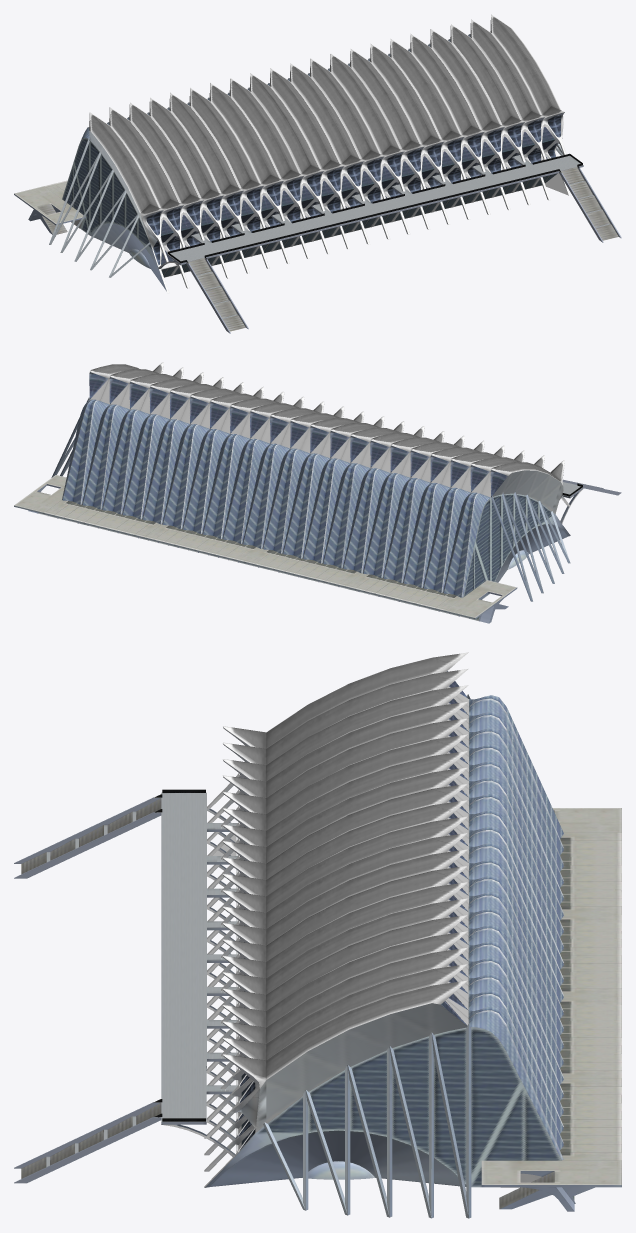
File: PIIE_AR_MO027_CIENCIES.fbx
The picture shows the model from 3 angles, top to bottom: view 1: azimuth 30°, elevation 25°; view 2: azimuth 150°, elevation 25°; view 3: azimuth 270°, elevation 25°; orthographic projection. The views are drawn at different scales.
Visible parts, largest first — view 1: PIIE_AR_MO026_CIENCIES; view 2: PIIE_AR_MO026_CIENCIES; view 3: PIIE_AR_MO026_CIENCIES.
Boxes of the visible parts, x1,y1,x2,y2 form: PIIE_AR_MO026_CIENCIES: [14, 14, 621, 333]; PIIE_AR_MO026_CIENCIES: [14, 362, 621, 623]; PIIE_AR_MO026_CIENCIES: [14, 652, 621, 1218].
Size of the model in its own units: 52.54 by 12.81 by 34.12.
Materials: 1 (1 with a texture image).
